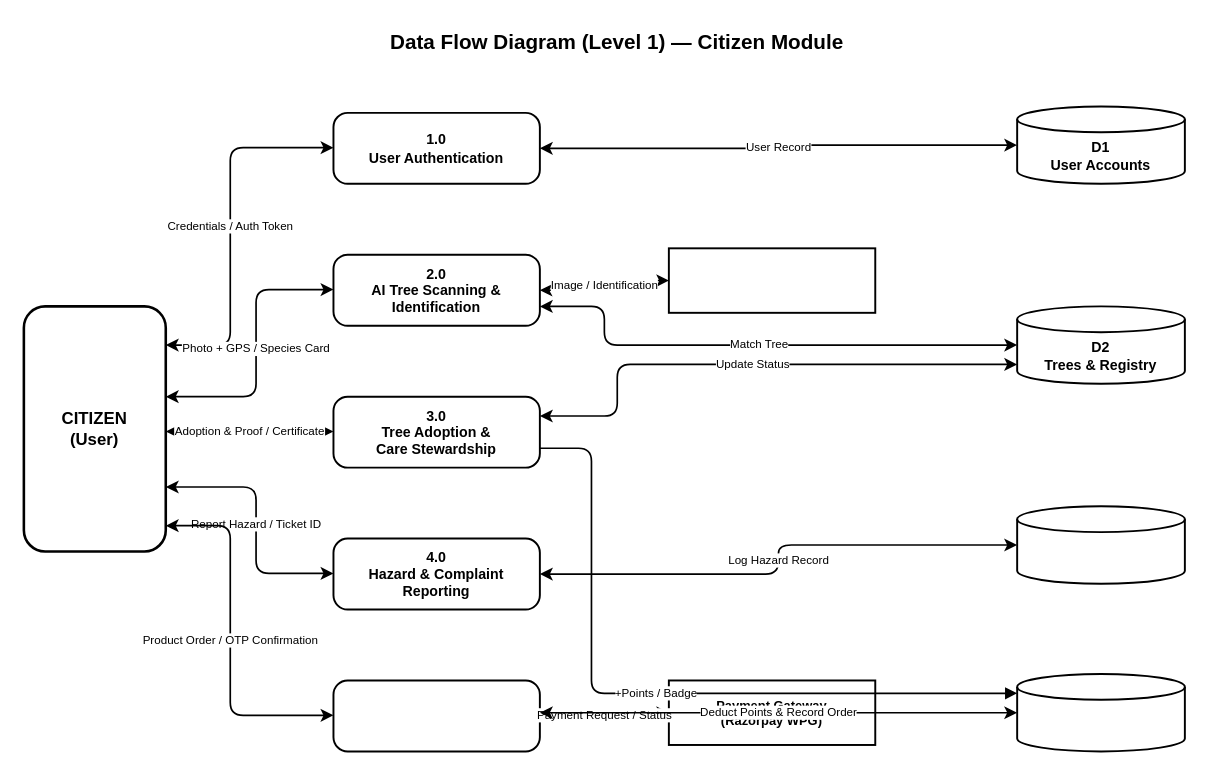
Image size: 1207x774. Some labels were removed from this diagram. The shapes that lost their labels are listed below. From the top down, each one's box as (x1, y1, x2, y2) in pixels, then its label:
(667, 247, 876, 313): External Services (Pl@ntNet AI & Cloudinary)
(1016, 505, 1185, 584): D3 Complaints & Hazards
(332, 679, 540, 752): 5.0 Eco-Store & Points Redemption
(1016, 672, 1185, 752): D4 Eco-Points & Orders
